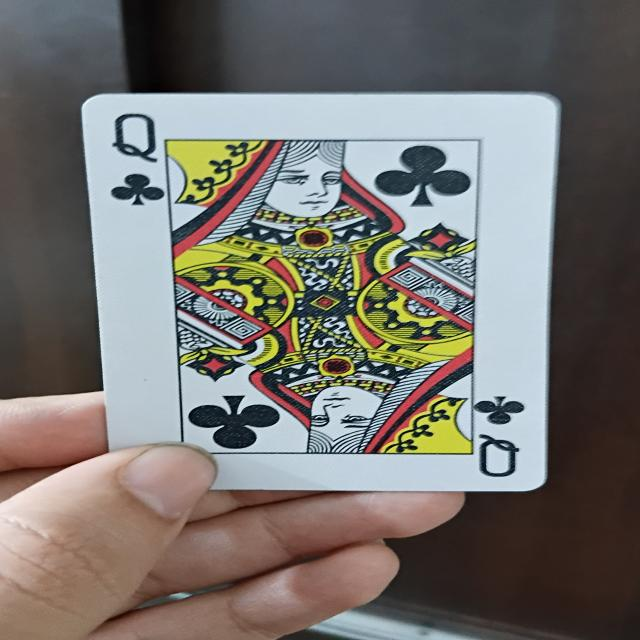QC: (72, 88, 558, 499)
